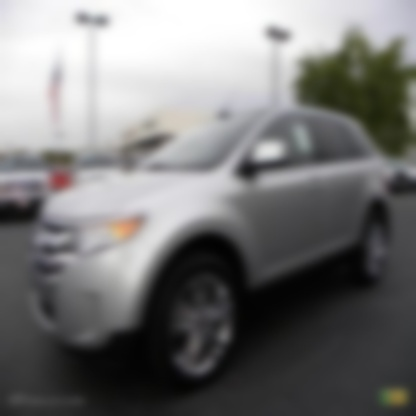Vehicle: (29, 87, 390, 384)
